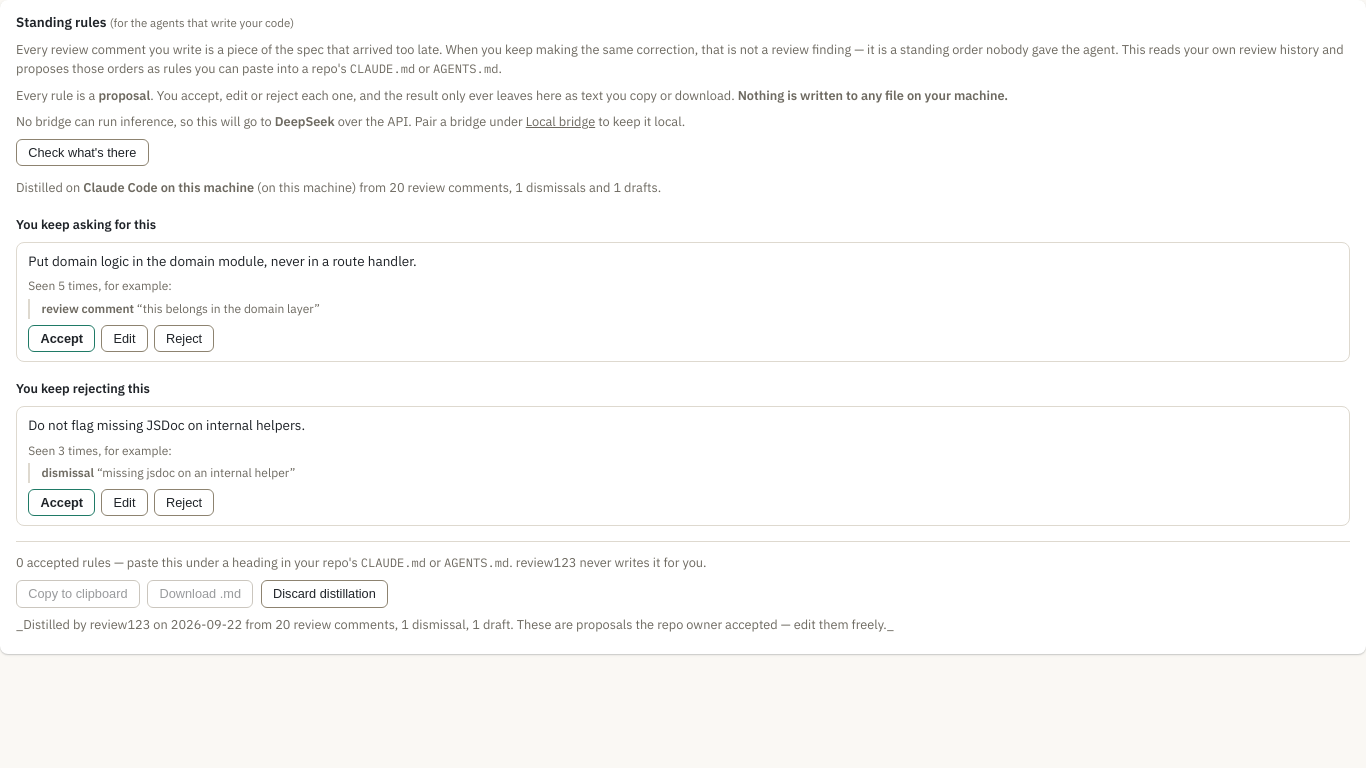
Test: accept / edit / reject › accepting ONE rule marks only that one, and persists
This screenshot has width=1366, height=768.
Click the button with aria-label "accept rule": coordinates (62, 338) [28,325,95,352]
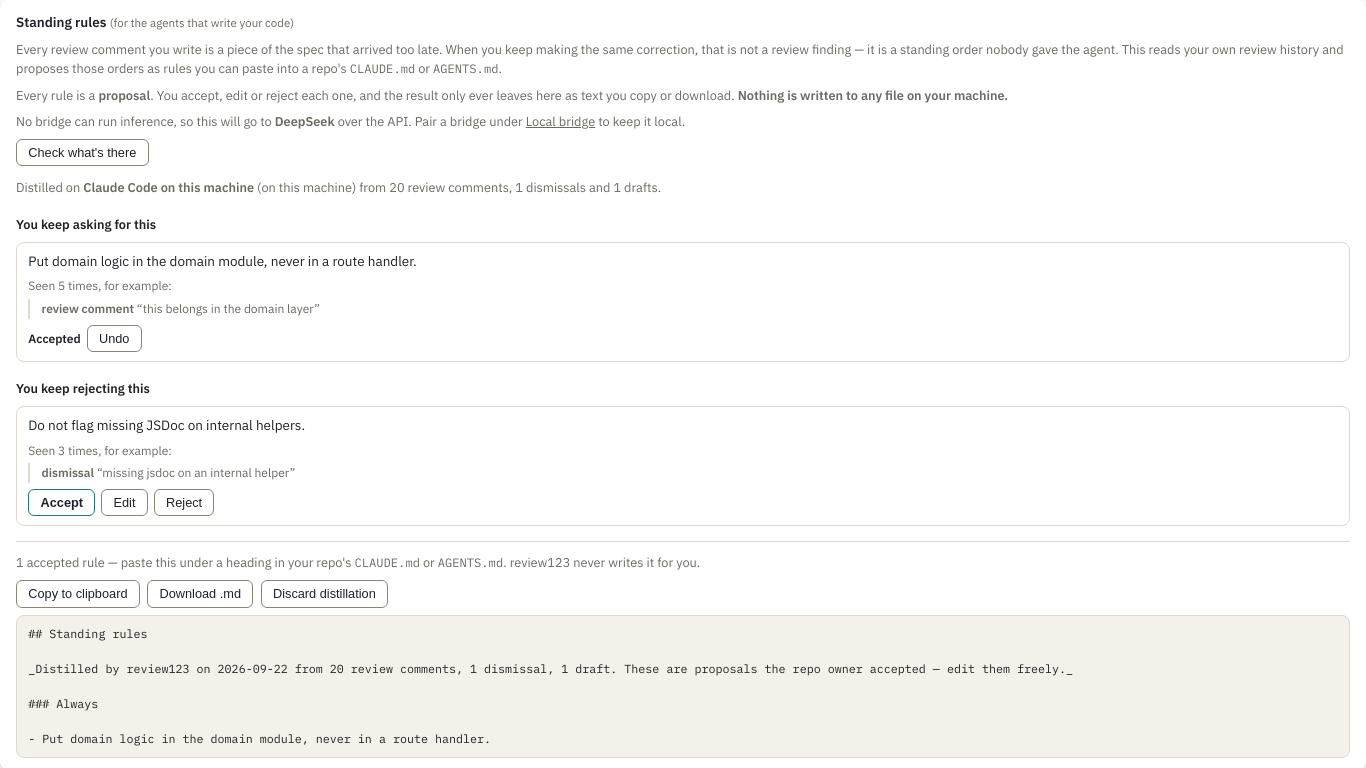
Result: the text with test id "standing-rule-decided" reads "Accepted" at [28,331,81,346]
